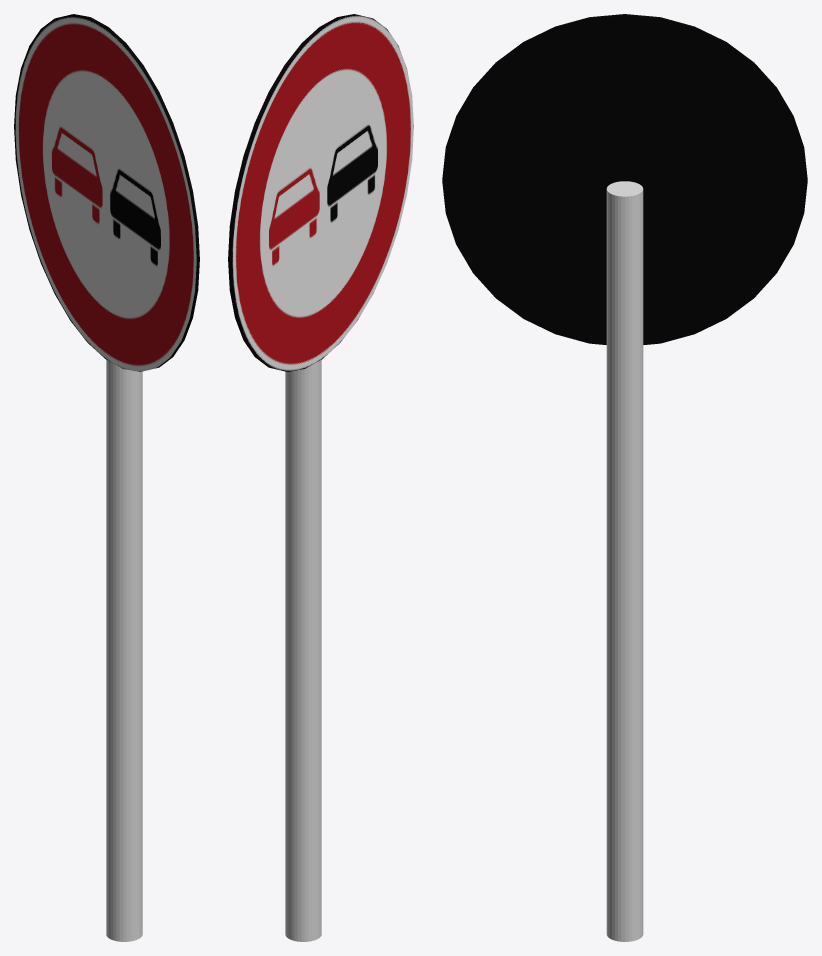
File: no_overtaking_start_sign.dae
3 views of the same model, side by side, from view 1: azimuth 30°, elevation 25°; view 2: azimuth 150°, elevation 25°; view 3: azimuth 270°, elevation 25° (orthographic).
Visible parts, largest first — view 1: Circle, Cylinder; view 2: Circle, Cylinder; view 3: Circle, Cylinder.
Part boxes in pixels (x1,y1,x2,y2): Circle: (14,14,199,371); Cylinder: (106,360,142,941); Circle: (228,14,413,371); Cylinder: (285,360,321,941); Circle: (442,14,807,344); Cylinder: (606,181,643,941).
Size of the model in its own units: 0.011 by 0.1 by 0.275.
3 materials, 2 textured.
